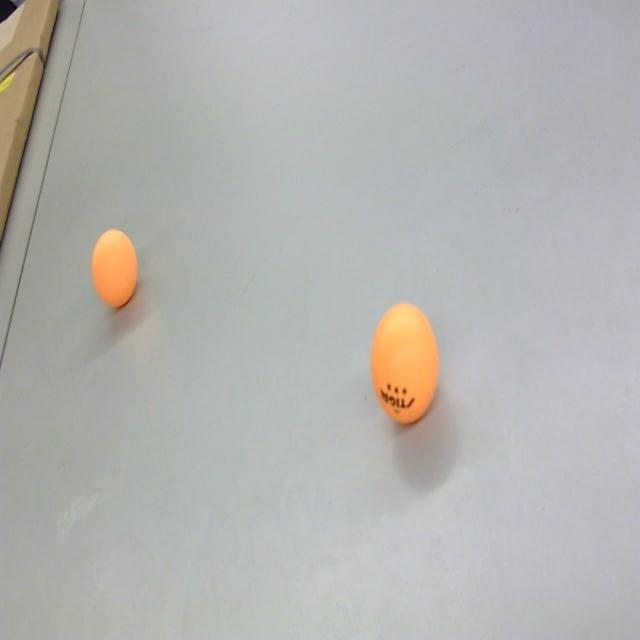ball: (369, 299, 442, 430), (90, 227, 139, 310)
